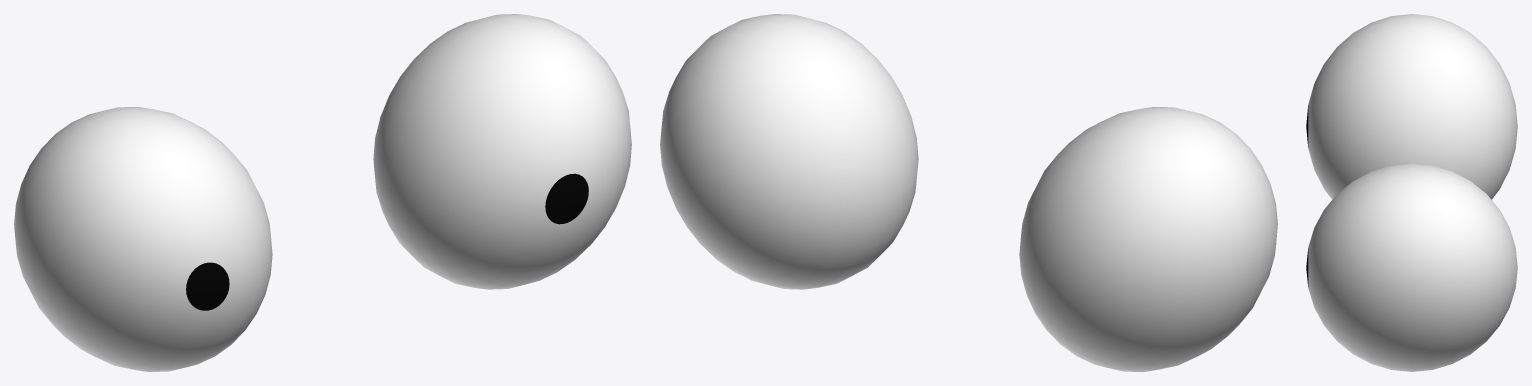
The model's file is Default_Eye.fbx.
3 views of the same model, side by side, from view 1: azimuth 30°, elevation 25°; view 2: azimuth 150°, elevation 25°; view 3: azimuth 270°, elevation 25° (orthographic). The views are drawn at different scales.
Parts seen in each view (by area): view 1: Default_Eye_Melee; view 2: Default_Eye_Melee; view 3: Default_Eye_Melee.
Part boxes in pixels (x1,y1,x2,y2): Default_Eye_Melee: (14, 14, 631, 371); Default_Eye_Melee: (660, 14, 1277, 371); Default_Eye_Melee: (1306, 14, 1517, 371).
Size of the model in its own units: 74.36 by 30.1 by 29.07.
